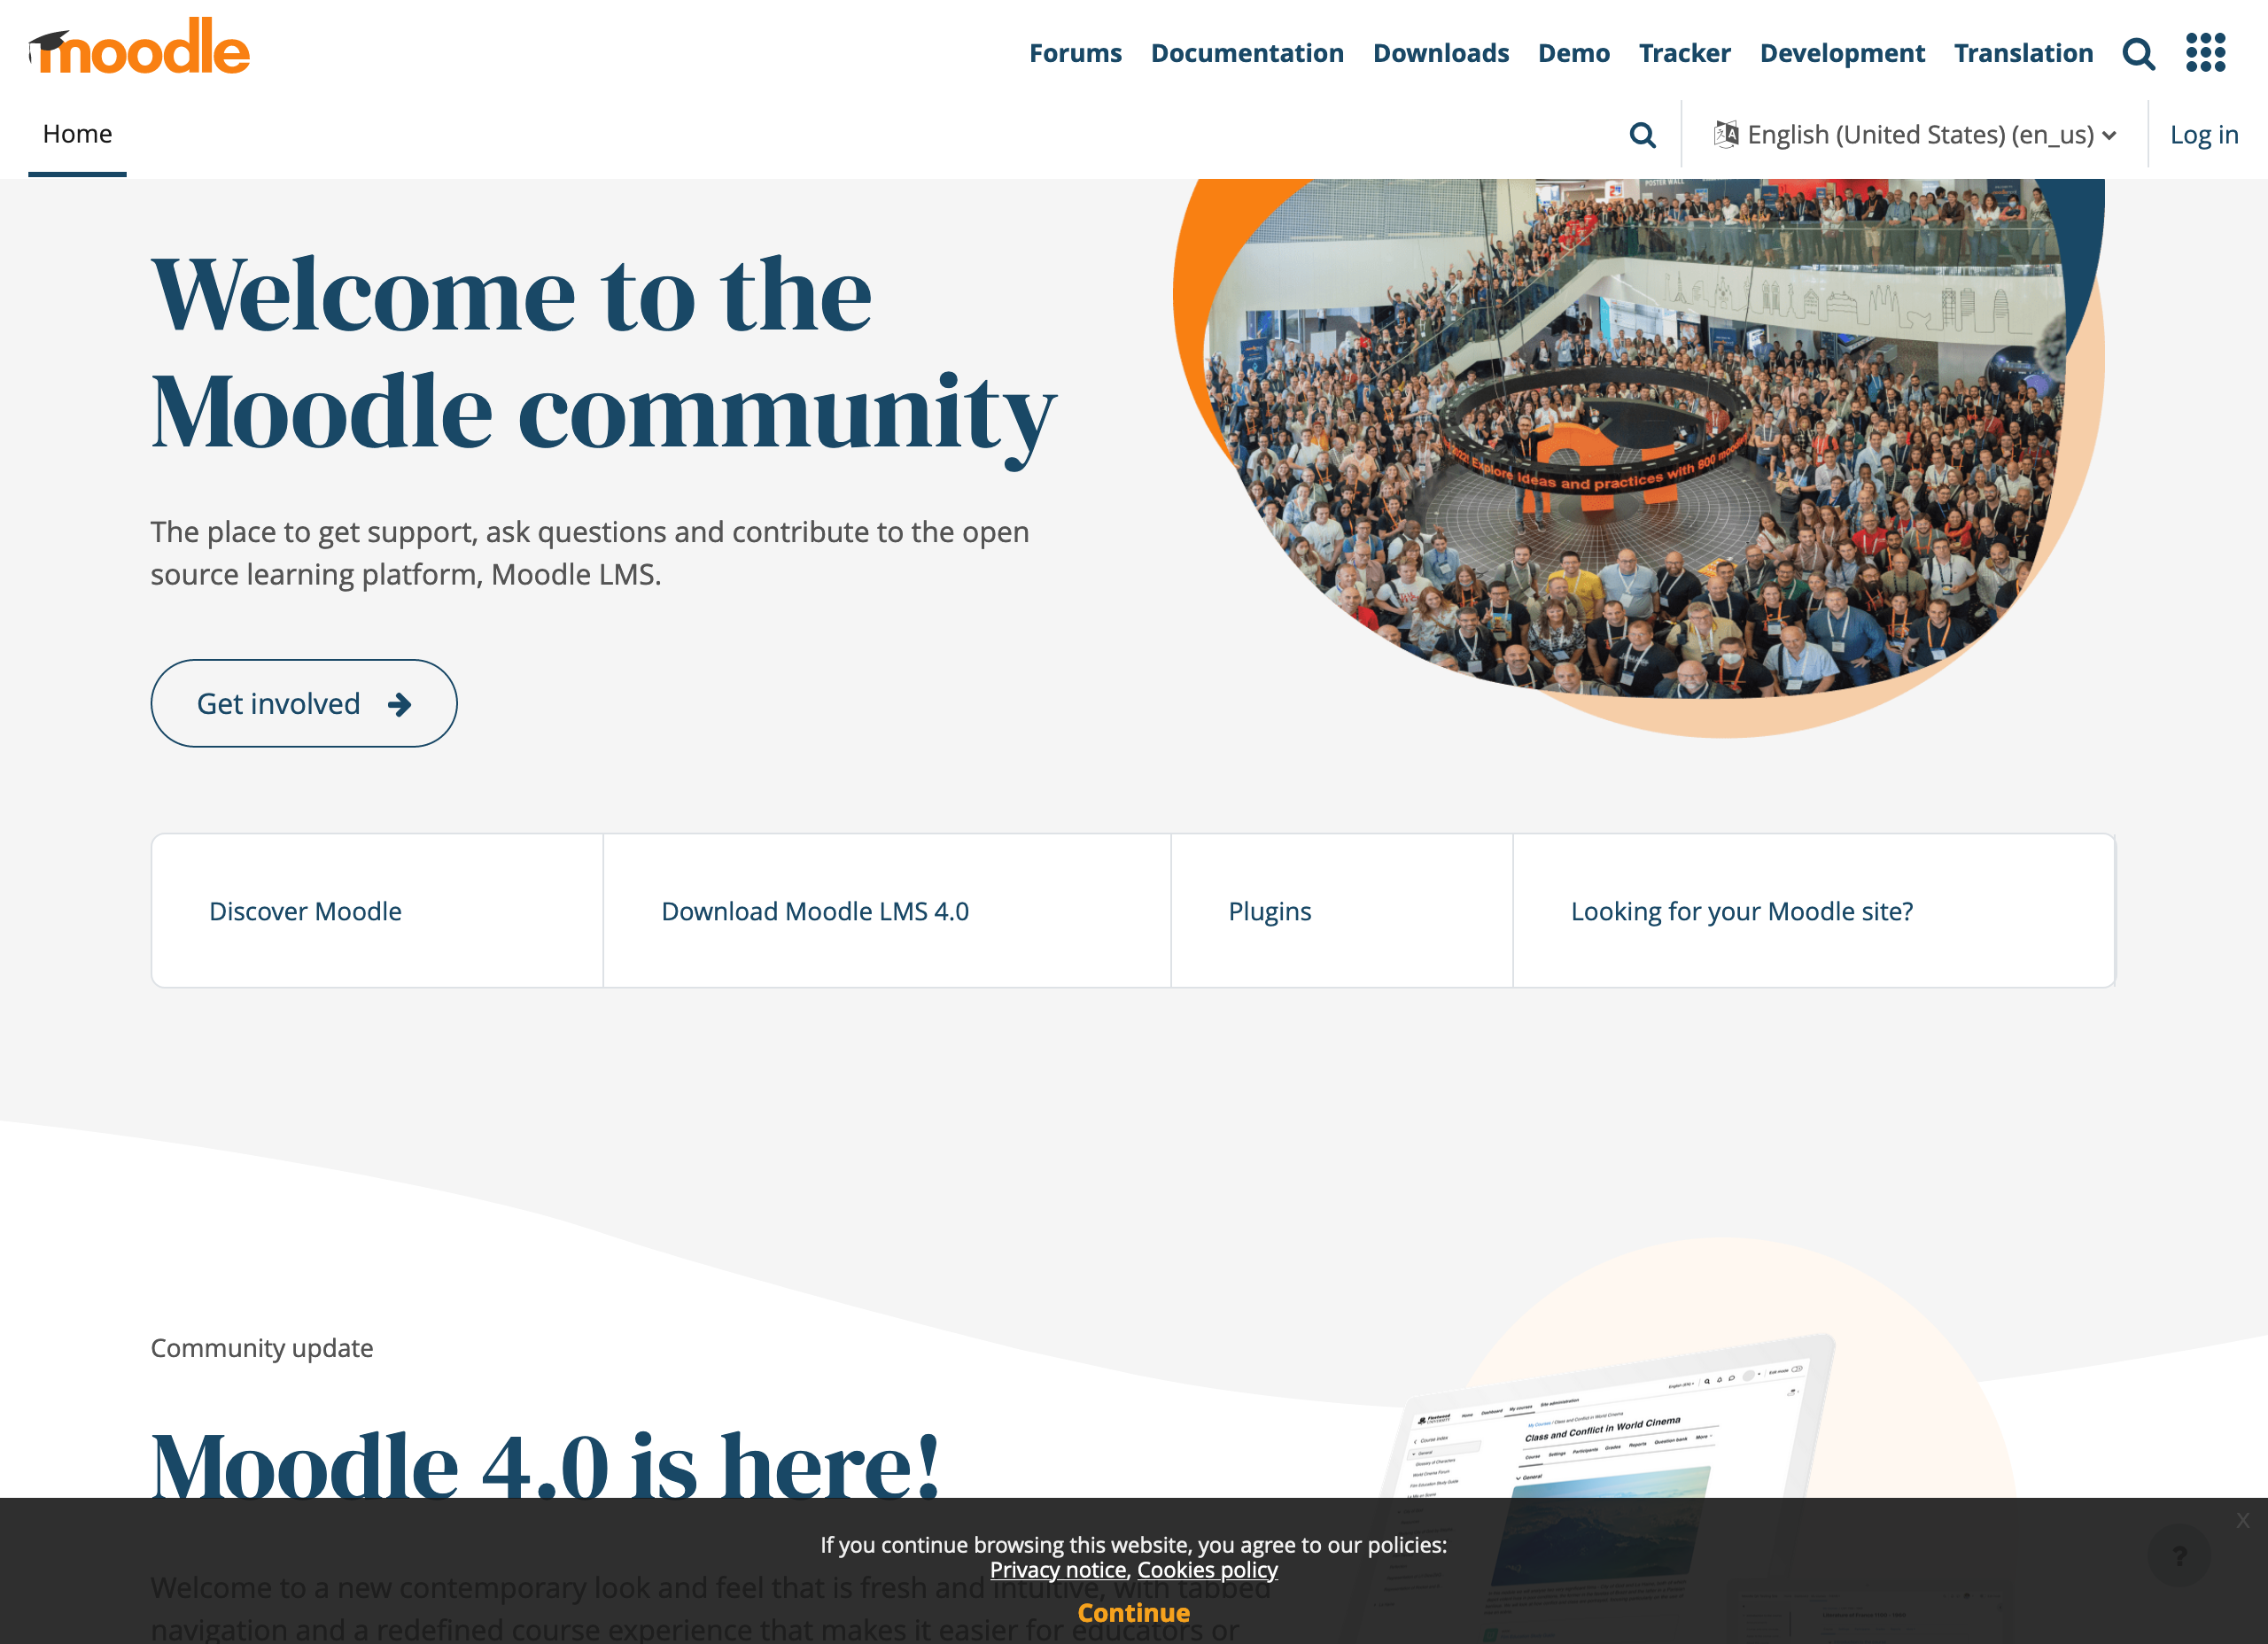Login: (2159, 109, 2249, 157)
